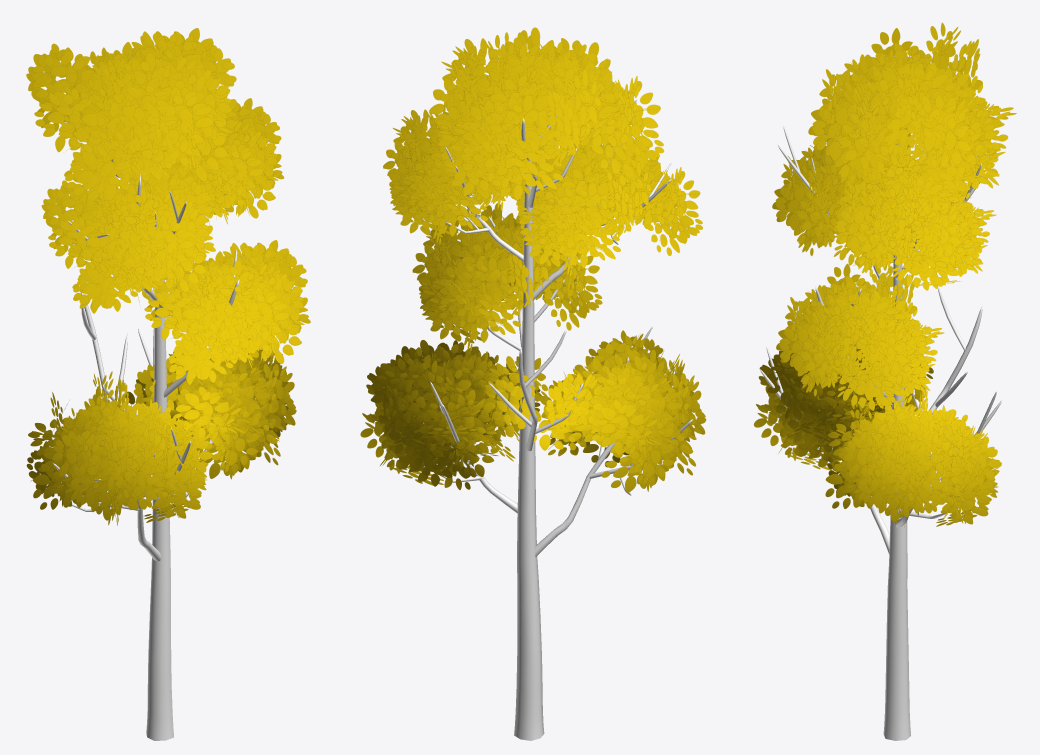
Rendered from birch_tree_2.glb.
3 renders of one model, left to right at view 1: azimuth 30°, elevation 25°; view 2: azimuth 150°, elevation 25°; view 3: azimuth 270°, elevation 25°, orthographic. The views are drawn at different scales.
Parts seen in each view (by area): view 1: BirchTree_2.001; view 2: BirchTree_2.001; view 3: BirchTree_2.001.
Part boxes in pixels (box(x1,y1,x2,y2)): BirchTree_2.001: box(26, 28, 310, 740); BirchTree_2.001: box(360, 27, 706, 740); BirchTree_2.001: box(754, 22, 1016, 740).
Bounding box in the file's own units: 3.35 × 7.57 × 2.81.
2 materials, 1 textured.
